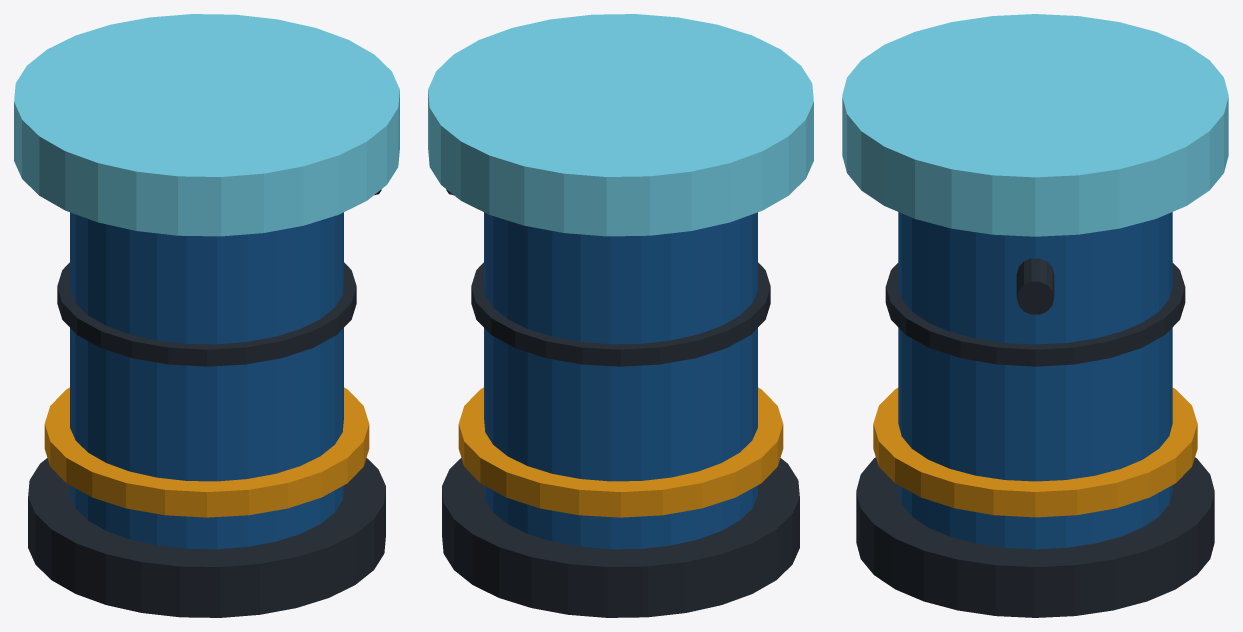
Rendered from flotation_column_fc401.glb.
3 renders of one model, left to right at view 1: azimuth 30°, elevation 25°; view 2: azimuth 150°, elevation 25°; view 3: azimuth 270°, elevation 25°, orthographic.
Parts seen in each view (by area): view 1: FC401_FrothLaunder, FC401_Column, FC401_Base, FC401_SpargerRing, FC401_MidBand; view 2: FC401_FrothLaunder, FC401_Column, FC401_Base, FC401_SpargerRing, FC401_MidBand; view 3: FC401_FrothLaunder, FC401_Column, FC401_Base, FC401_SpargerRing, FC401_MidBand, FC401_FeedPipe.
Part boxes in pixels (x1=…): FC401_FrothLaunder: x1=14, y1=14, x2=399, y2=236; FC401_Column: x1=70, y1=212, x2=343, y2=549; FC401_Base: x1=28, y1=458, x2=385, y2=617; FC401_SpargerRing: x1=44, y1=387, x2=369, y2=517; FC401_MidBand: x1=57, y1=262, x2=356, y2=366; FC401_FrothLaunder: x1=428, y1=14, x2=813, y2=236; FC401_Column: x1=484, y1=212, x2=757, y2=549; FC401_Base: x1=442, y1=458, x2=799, y2=617; FC401_SpargerRing: x1=458, y1=387, x2=783, y2=517; FC401_MidBand: x1=471, y1=262, x2=770, y2=366; FC401_FrothLaunder: x1=842, y1=14, x2=1228, y2=236; FC401_Column: x1=898, y1=212, x2=1172, y2=549; FC401_Base: x1=856, y1=457, x2=1214, y2=617; FC401_SpargerRing: x1=873, y1=388, x2=1197, y2=517; FC401_MidBand: x1=885, y1=263, x2=1185, y2=366; FC401_FeedPipe: x1=1016, y1=258, x2=1054, y2=314.
Size of the model in its own units: 2.48 by 3.16 by 2.48.
